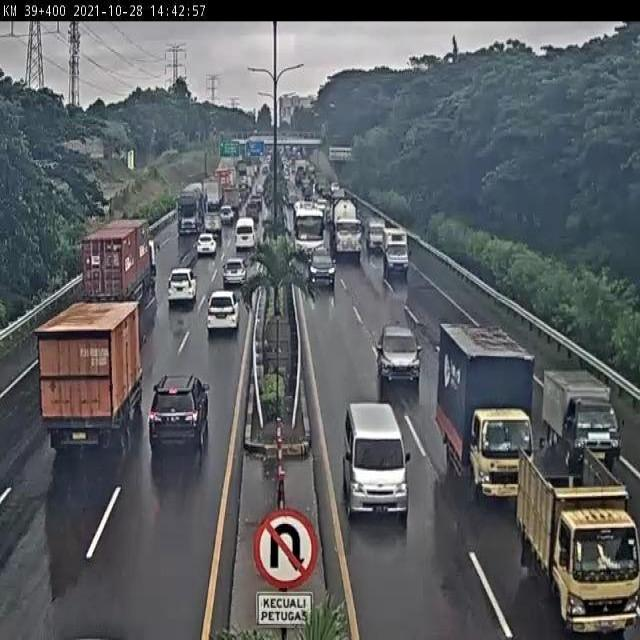big truck: (36, 299, 146, 452), (81, 218, 157, 322)
bus-s-: (344, 402, 408, 522)
car: (148, 372, 209, 453), (378, 324, 421, 387), (208, 290, 240, 334), (309, 251, 338, 292), (167, 266, 196, 306), (235, 216, 258, 252), (221, 255, 246, 285), (195, 230, 217, 258)
truck-m-: (518, 441, 640, 635), (439, 317, 537, 508)
truck-s-: (542, 367, 621, 472), (383, 228, 410, 276)
